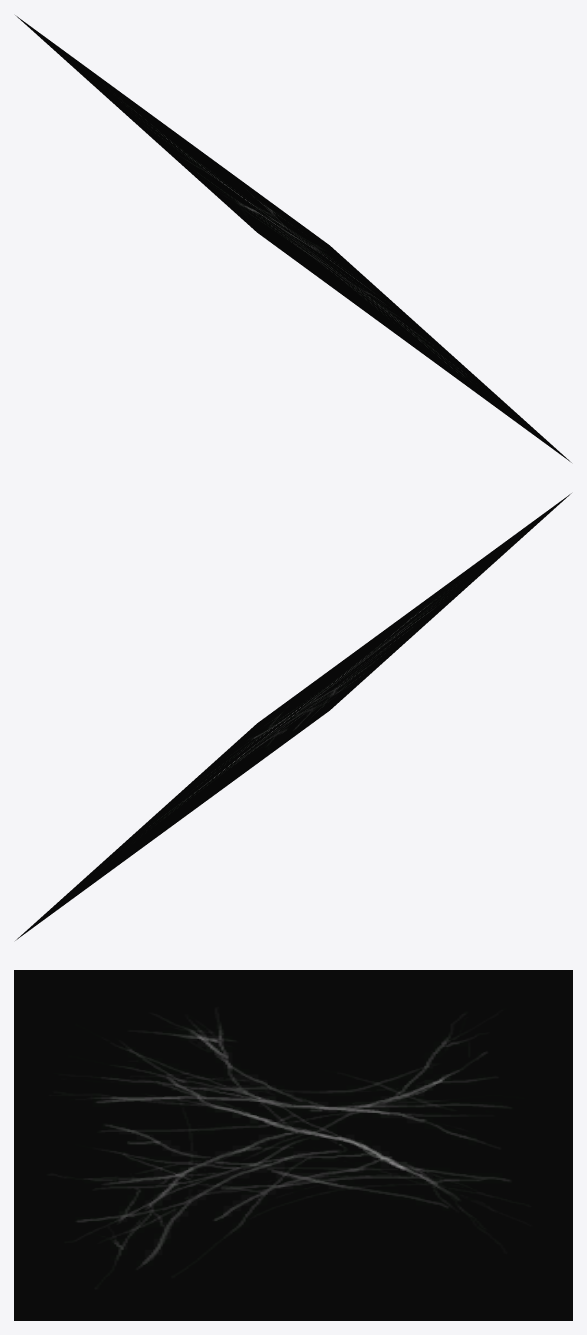
Rendered from MIRKWOOD_WEB_DECOR01.fbx.
3 views of the same model, one above another, from view 1: azimuth 30°, elevation 25°; view 2: azimuth 150°, elevation 25°; view 3: azimuth 270°, elevation 25° (orthographic). The views are drawn at different scales.
Parts seen in each view (by area): view 1: MIRKWOOD_WEB_DECOR01; view 2: MIRKWOOD_WEB_DECOR01; view 3: MIRKWOOD_WEB_DECOR01.
Boxes of the visible parts, bbox=[...] form: MIRKWOOD_WEB_DECOR01: bbox=[15, 15, 571, 462]; MIRKWOOD_WEB_DECOR01: bbox=[15, 493, 571, 940]; MIRKWOOD_WEB_DECOR01: bbox=[14, 970, 572, 1320].
Bounding box in the file's own units: 47866 × 52255 × 107707.
Materials: 1 (1 with a texture image).
